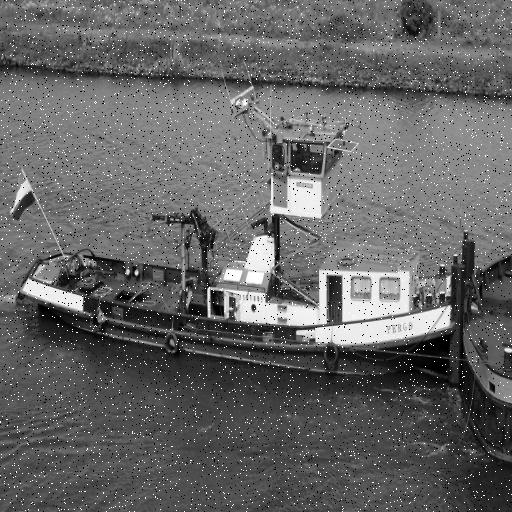tugboat: (16, 111, 478, 404)
